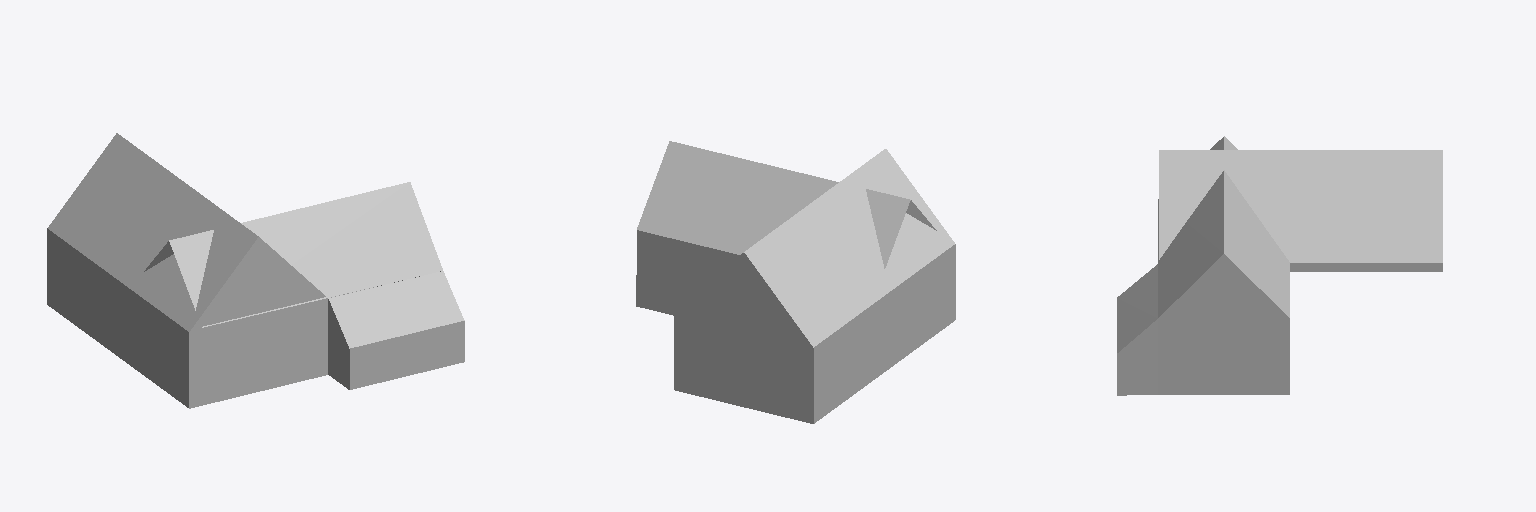
File: building3_shadow.obj
The picture shows the model from 3 angles: view 1: azimuth 30°, elevation 25°; view 2: azimuth 150°, elevation 25°; view 3: azimuth 270°, elevation 25°; orthographic projection.
Parts seen in each view (by area): view 1: polymsh_extracted2; view 2: polymsh_extracted2; view 3: polymsh_extracted2.
Part boxes in pixels (x1,y1,x2,y2): polymsh_extracted2: (47,133,464,408); polymsh_extracted2: (636,141,955,423); polymsh_extracted2: (1117,136,1442,395).
Bounding box in the file's own units: 0.4138 × 0.2416 × 0.4598.